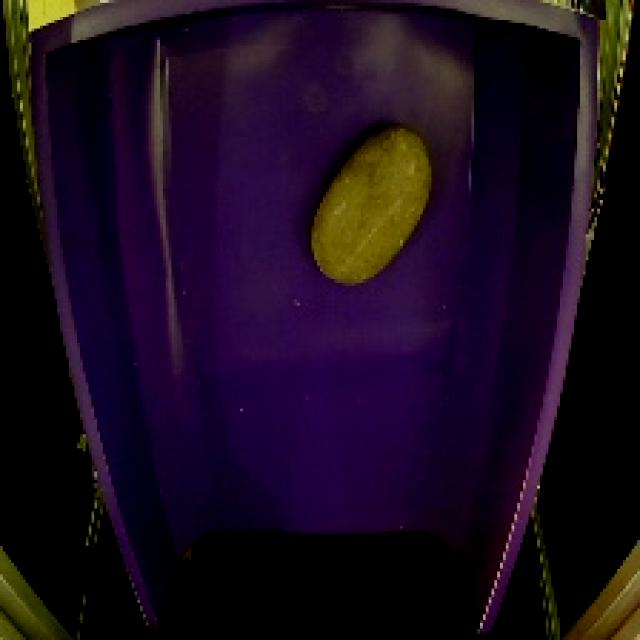cobbles: (302, 114, 445, 294)
